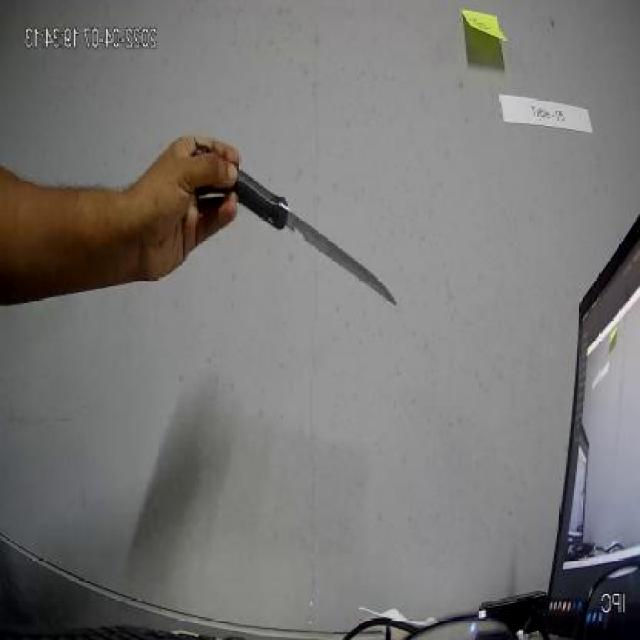knife: (174, 157, 400, 318)
